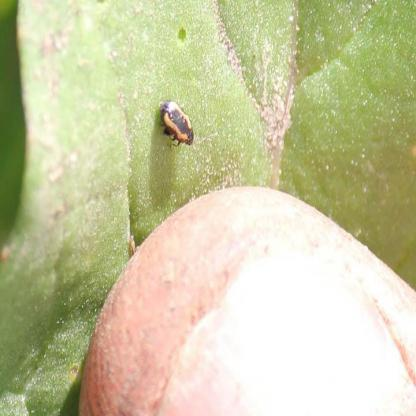beetle: (158, 98, 197, 160)
